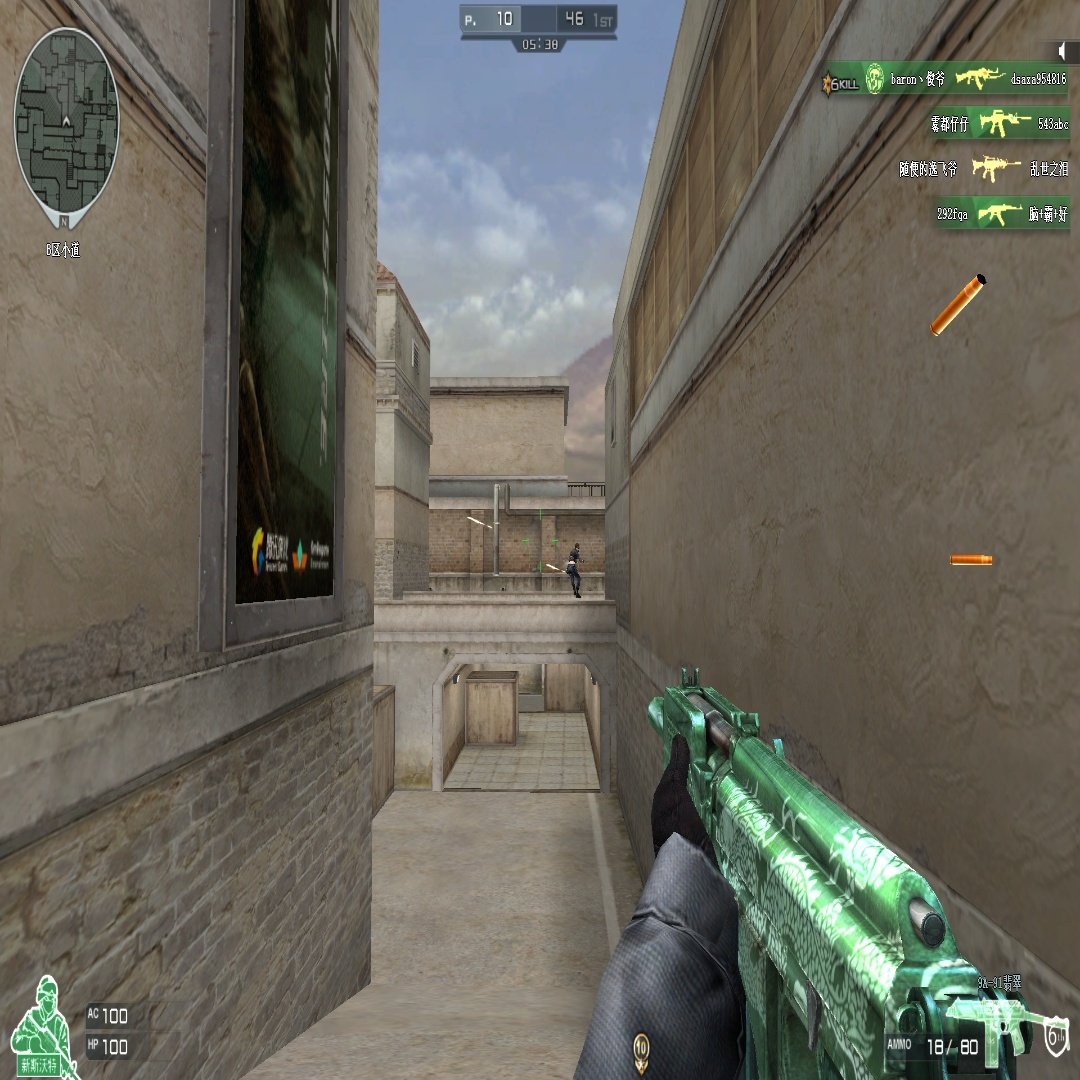head: (574, 542, 580, 552)
p: (565, 542, 582, 596)
